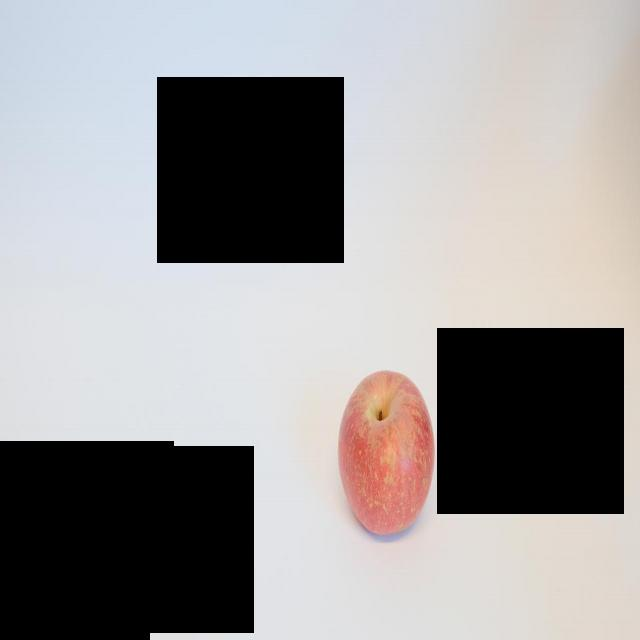apple: (340, 361, 438, 548)
